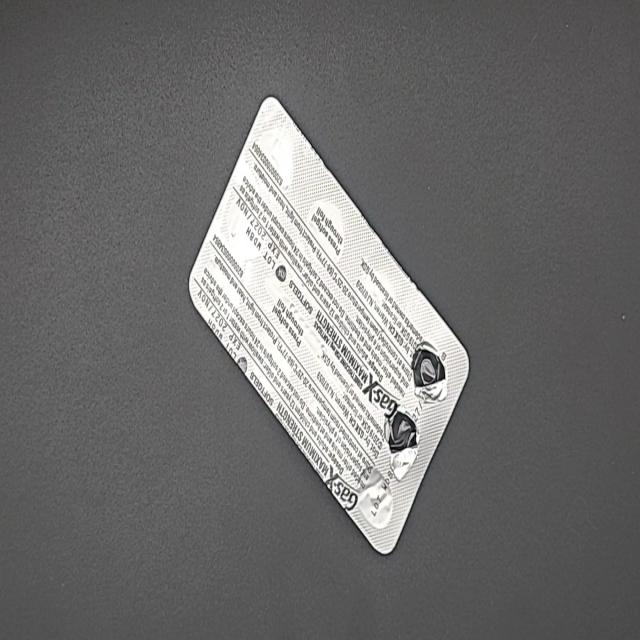defect: (382, 402, 422, 483), (411, 339, 448, 405)
